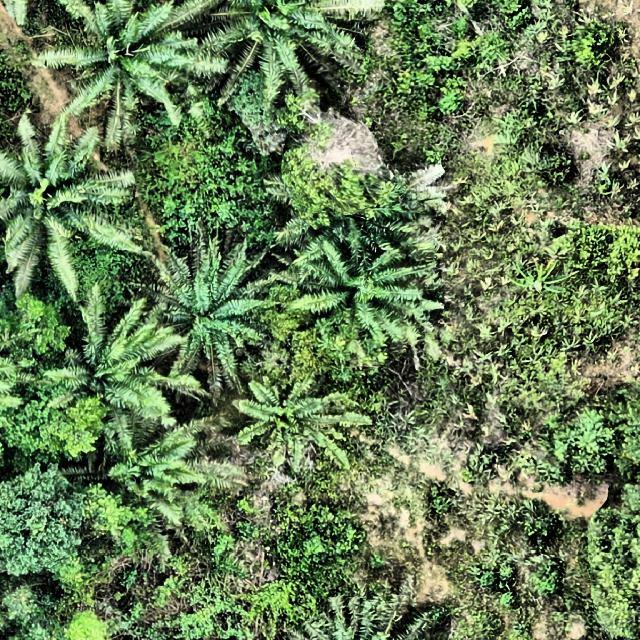Kelapa_Sawit: (0, 118, 139, 284), (67, 0, 208, 122), (53, 306, 177, 436), (218, 1, 359, 104), (308, 232, 432, 342), (158, 248, 256, 382), (236, 368, 355, 471), (96, 428, 206, 531), (316, 586, 418, 640)
